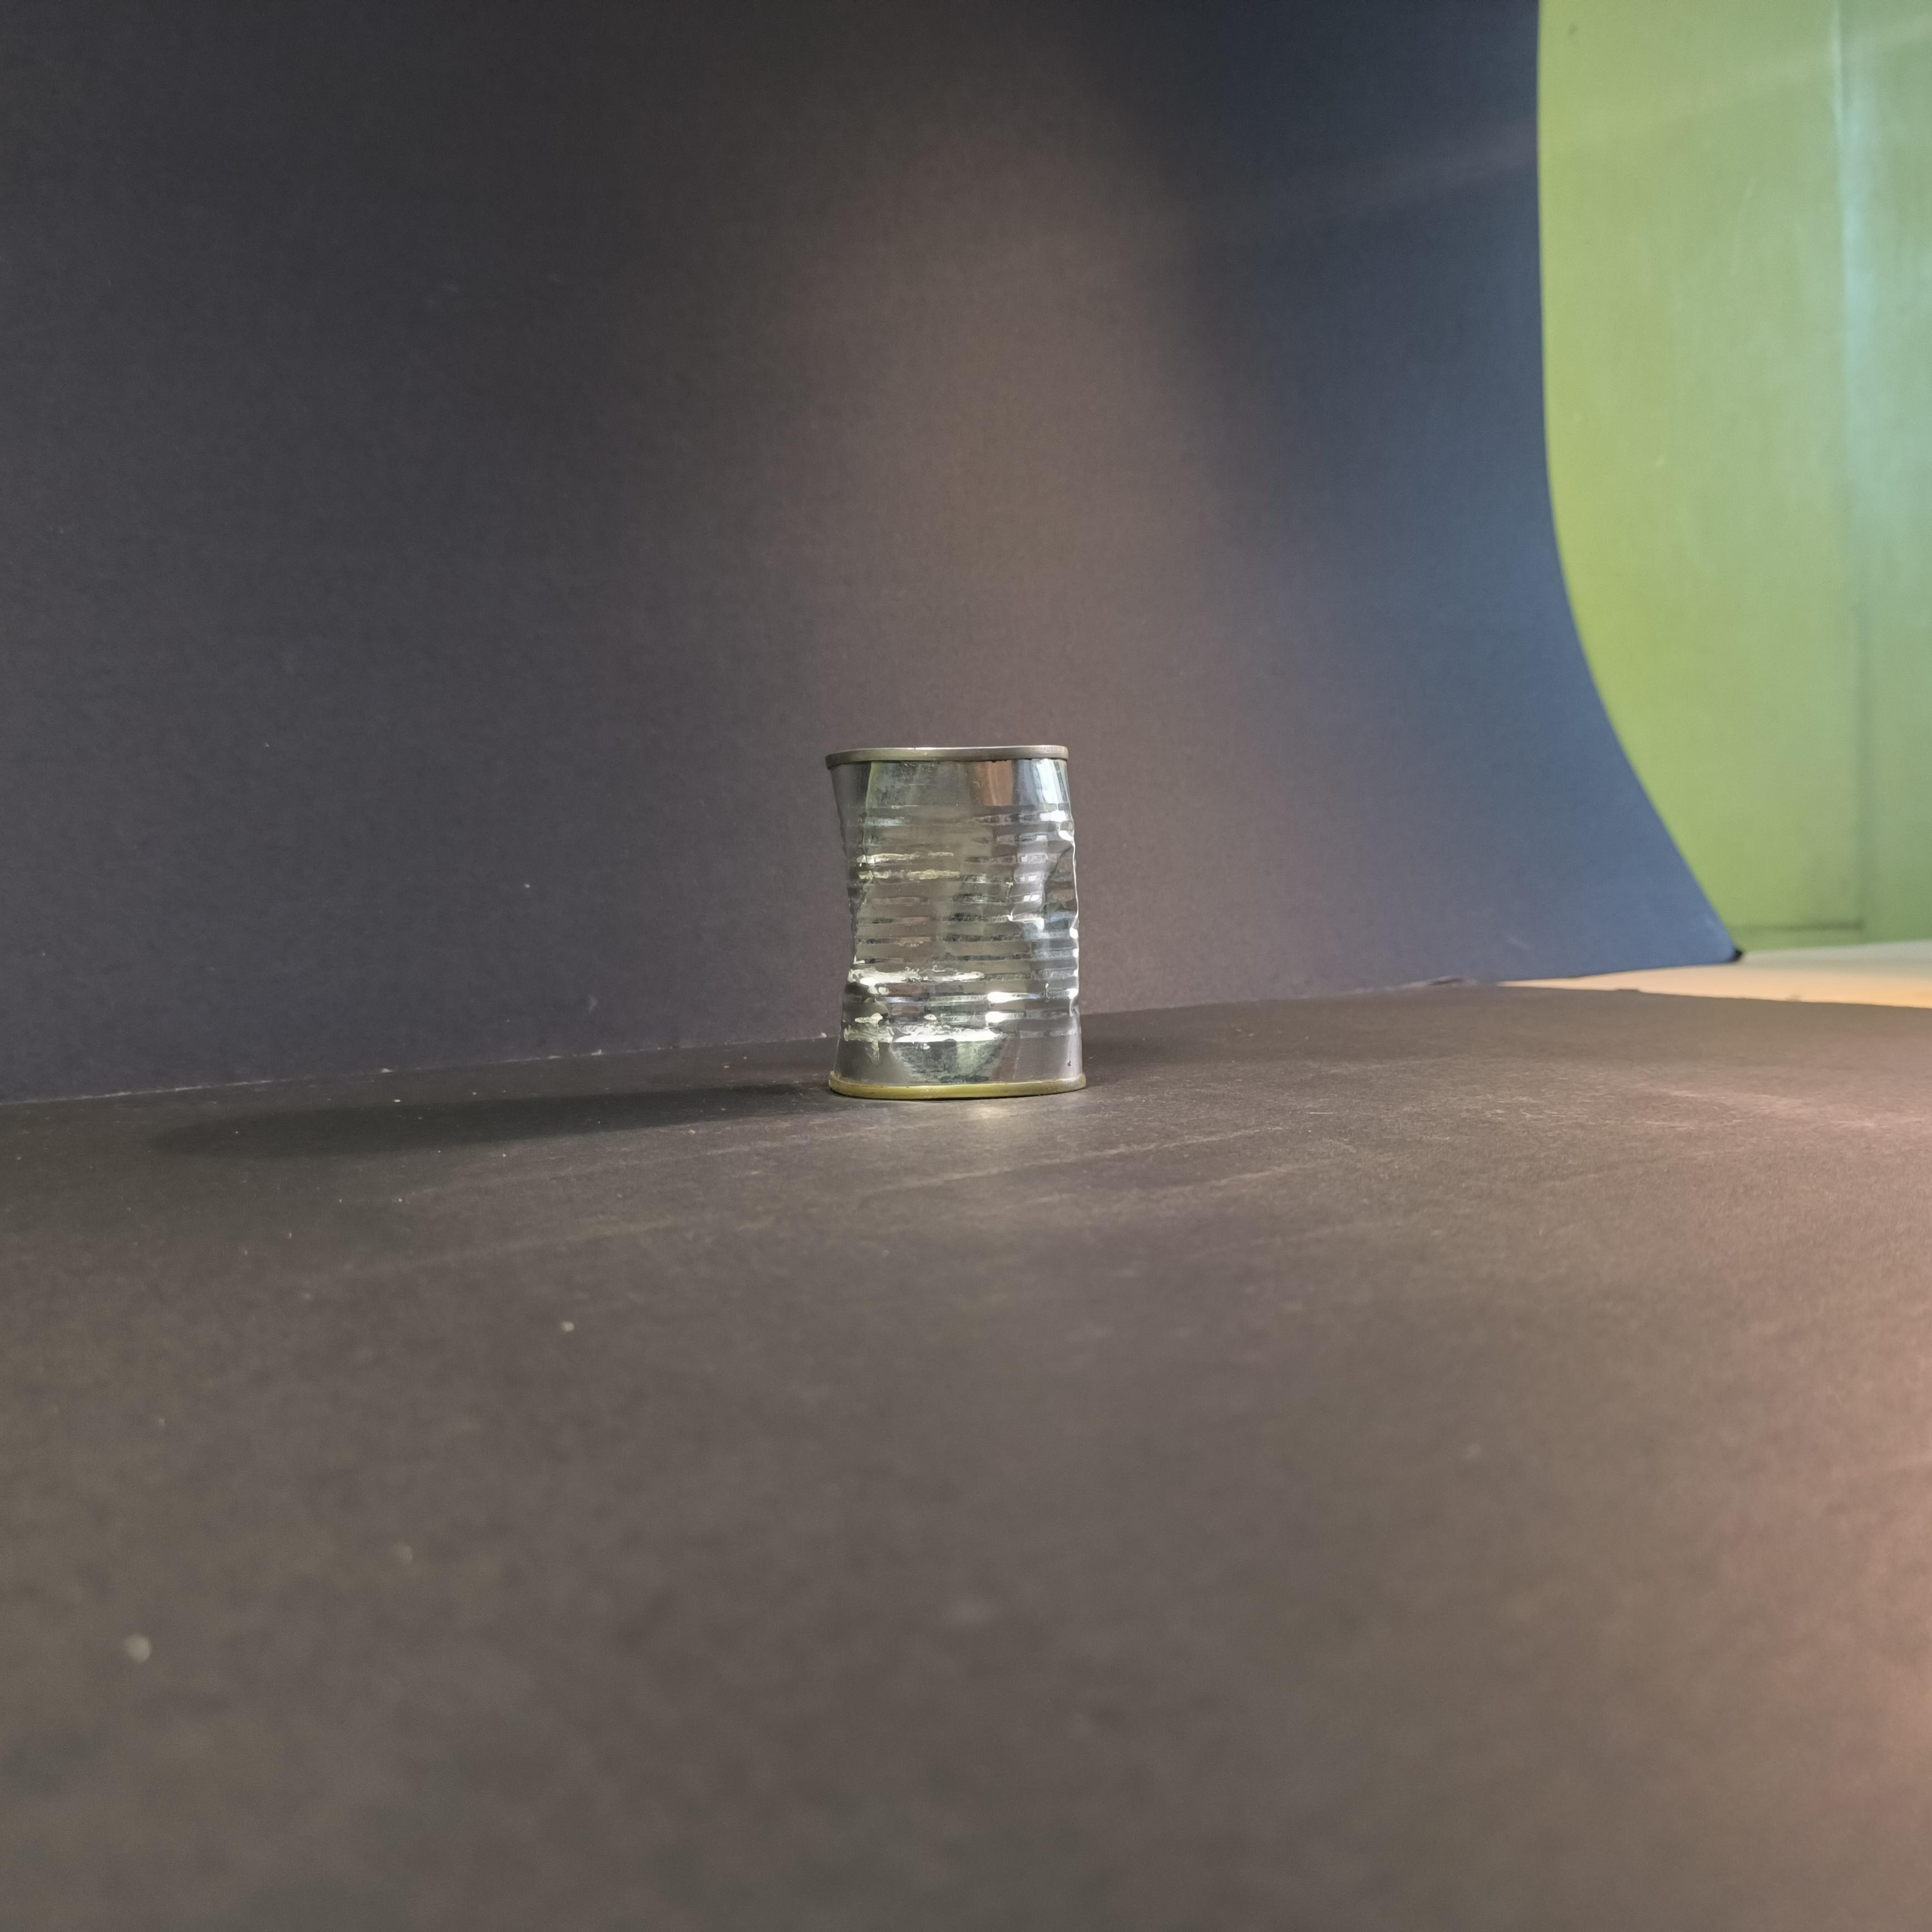Dented: (807, 718, 1108, 1102)
